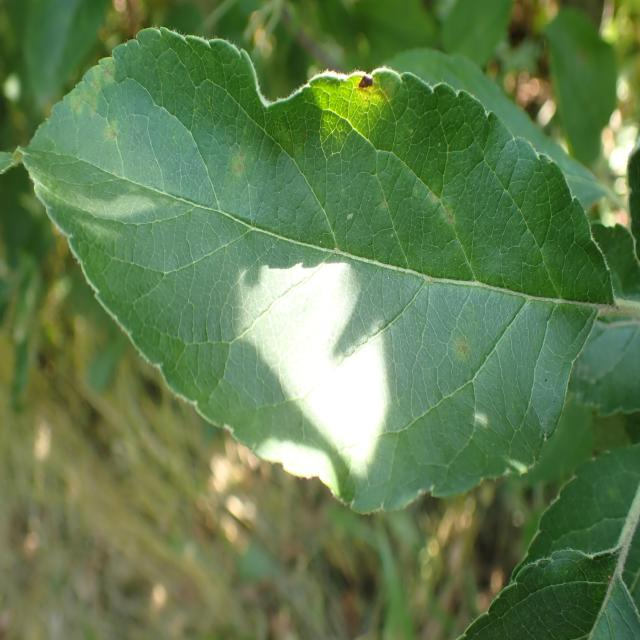scab: (51, 29, 526, 452)
